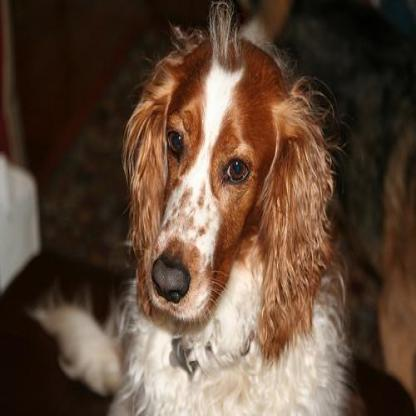Welsh_springer_spaniel: (25, 0, 364, 414)
